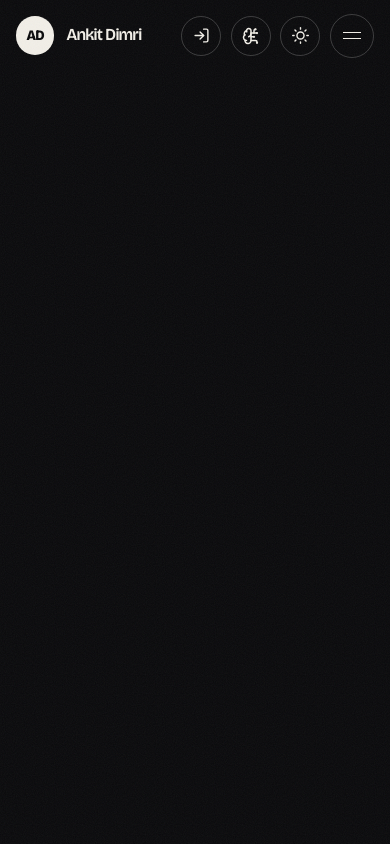
Test: the nav's account icon › says Sign in, left of the brain map's icon, and opens the sign-in page; in the phone menu too, after the brain map
Click the button named "Open menu". click: (352, 36)
box: [330,14,374,58]
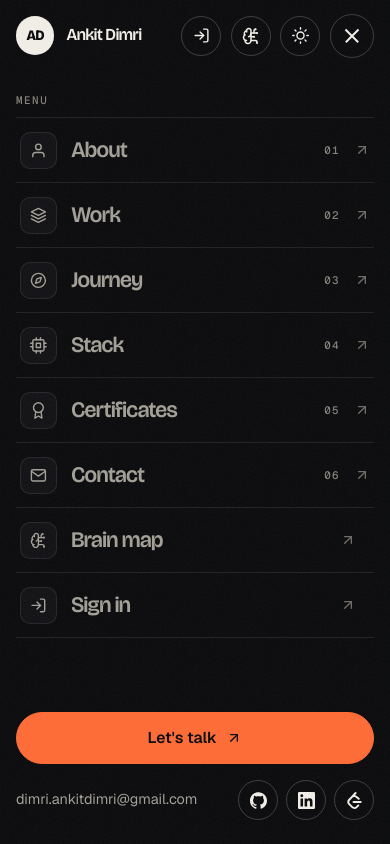
Now the link "Brain map" is shown, box [16,508,374,573]
